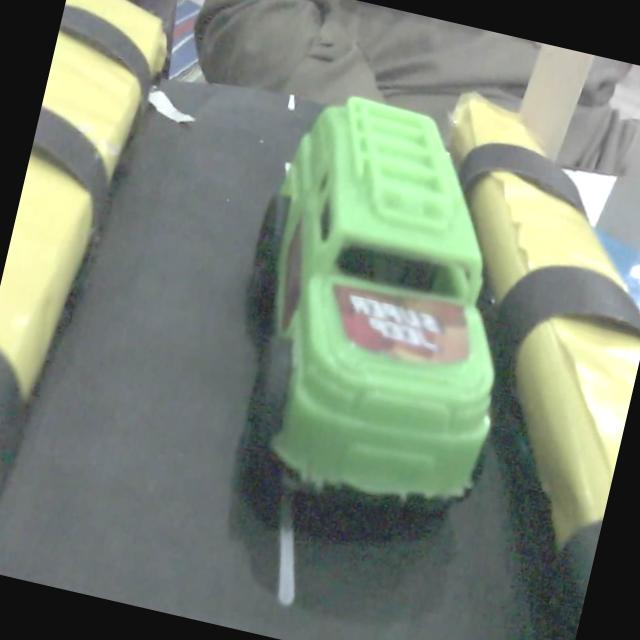OneCar: (246, 92, 496, 516)
